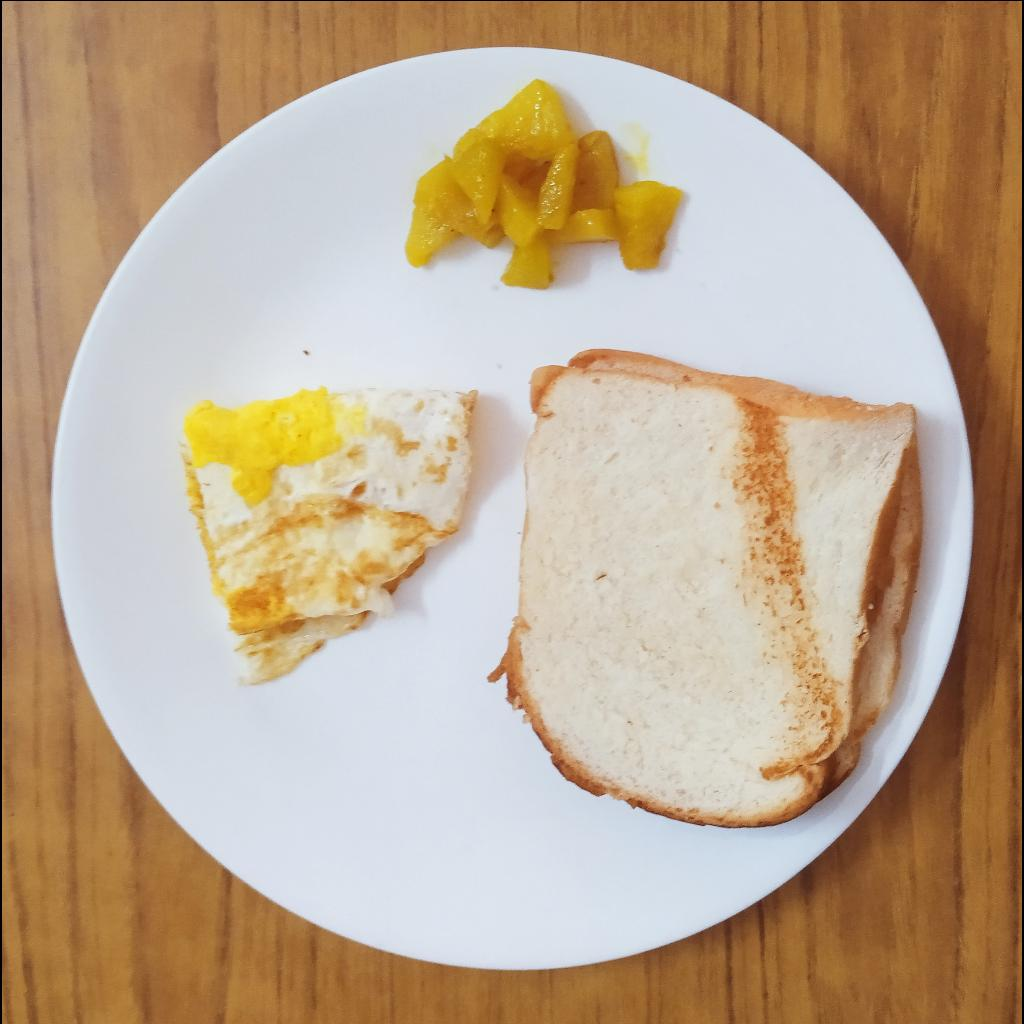bread: (489, 347, 922, 829)
egg-poached: (174, 390, 476, 682)
kumra-vaji: (404, 78, 689, 287)
